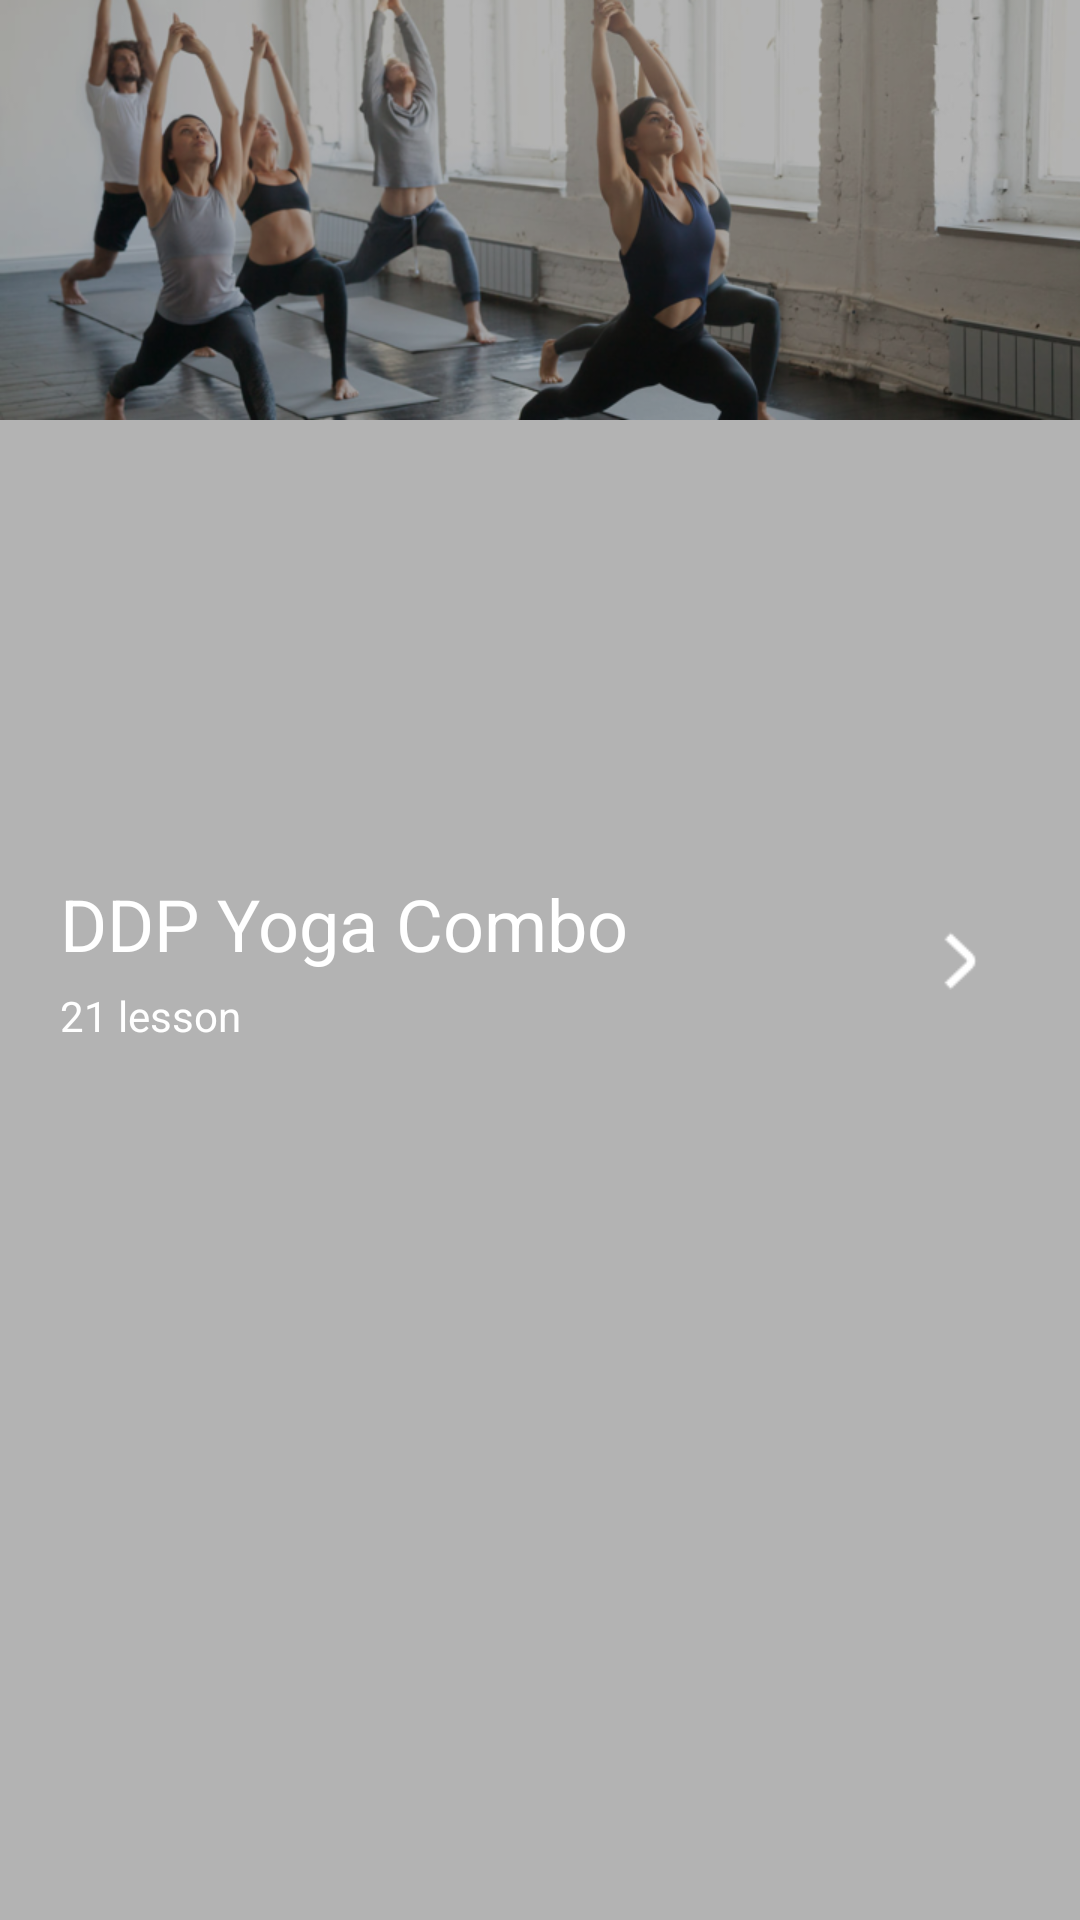

Named icons in this screenshot (1080x1920) and their centers, (x=x, y=y):
vedio arrow: (x=960, y=961)
